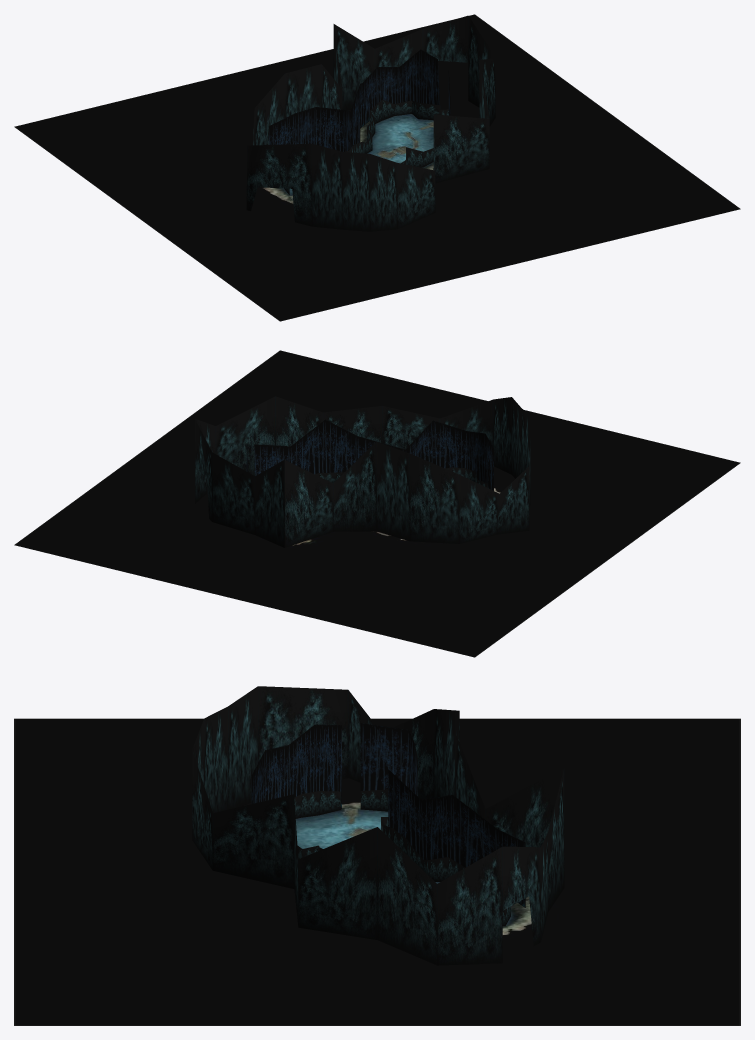
The model's file is pir_m_are_swm_a.fbx.
3 renders of one model, top to bottom at view 1: azimuth 30°, elevation 25°; view 2: azimuth 150°, elevation 25°; view 3: azimuth 270°, elevation 25°, orthographic. The views are drawn at different scales.
Parts seen in each view (by area): view 1: minimap_0, ShrubsBGFar, TreesBG1, ShrubsBGClose; view 2: minimap_0, ShrubsBGFar, TreesBG1; view 3: minimap_0, ShrubsBGFar, TreesBG1, ShrubsBGClose.
Part boxes in pixels (x1,y1,x2,y2): minimap_0: (14, 14, 740, 321); ShrubsBGFar: (246, 15, 495, 231); TreesBG1: (268, 49, 450, 151); ShrubsBGClose: (284, 99, 448, 194); minimap_0: (14, 350, 740, 657); ShrubsBGFar: (195, 396, 530, 547); TreesBG1: (246, 419, 493, 490); minimap_0: (14, 718, 740, 1025); ShrubsBGFar: (192, 686, 564, 965); TreesBG1: (251, 723, 525, 907); ShrubsBGClose: (294, 789, 510, 926).
Size of the model in its own units: 150000 by 28588 by 150000.
2 materials, 2 textured.
